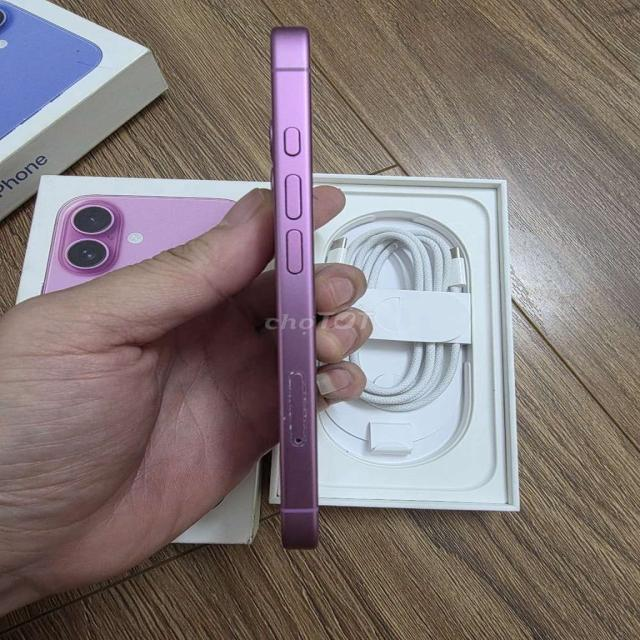gen_16: (271, 28, 318, 548)
